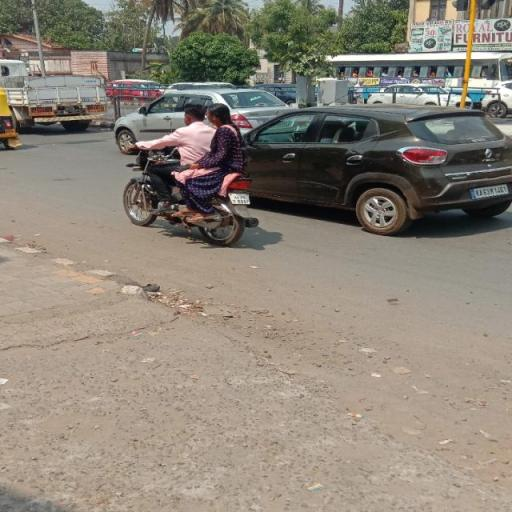bike: (121, 100, 260, 249)
numberplate: (230, 192, 250, 205)
withouthelmet: (208, 105, 229, 123), (186, 104, 204, 124)
